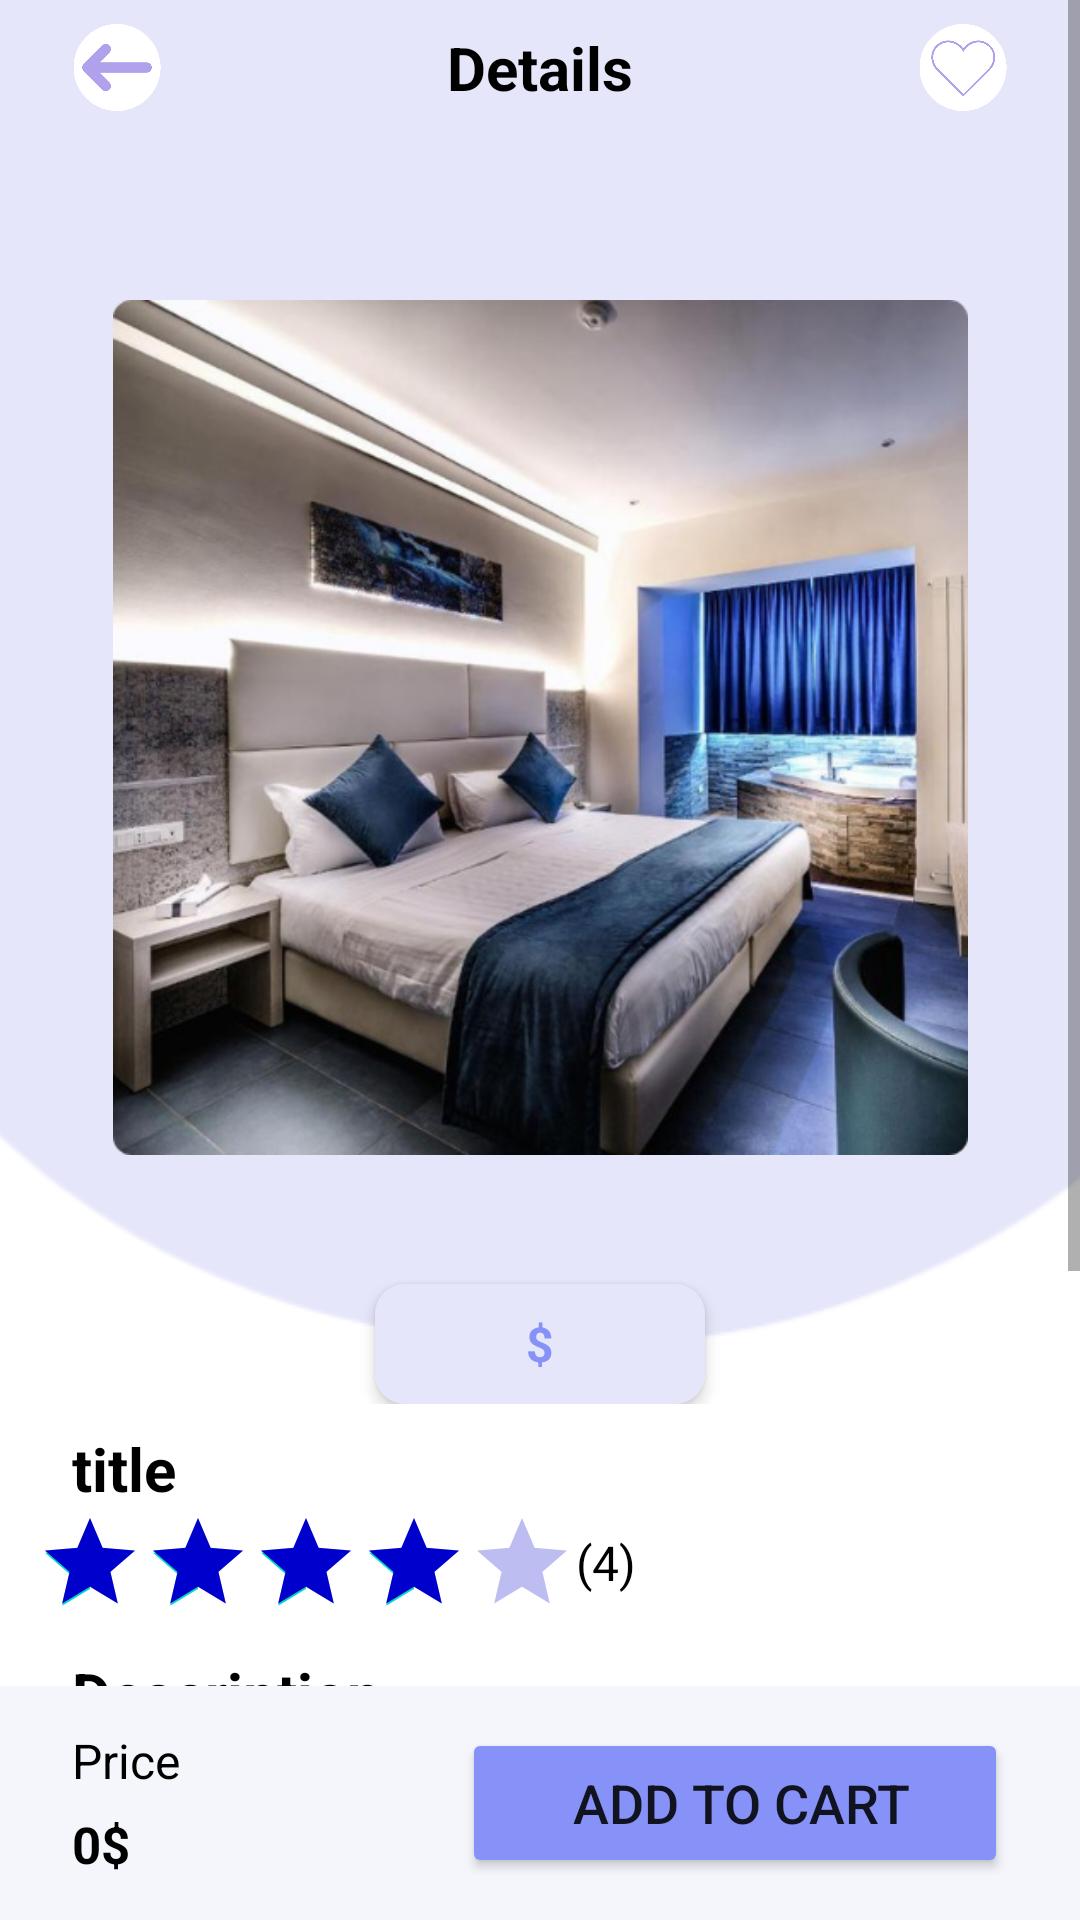

Icon click points for this 1080w x 1920h phone screenshot, format [x,y]:
favheart: [963,67]
